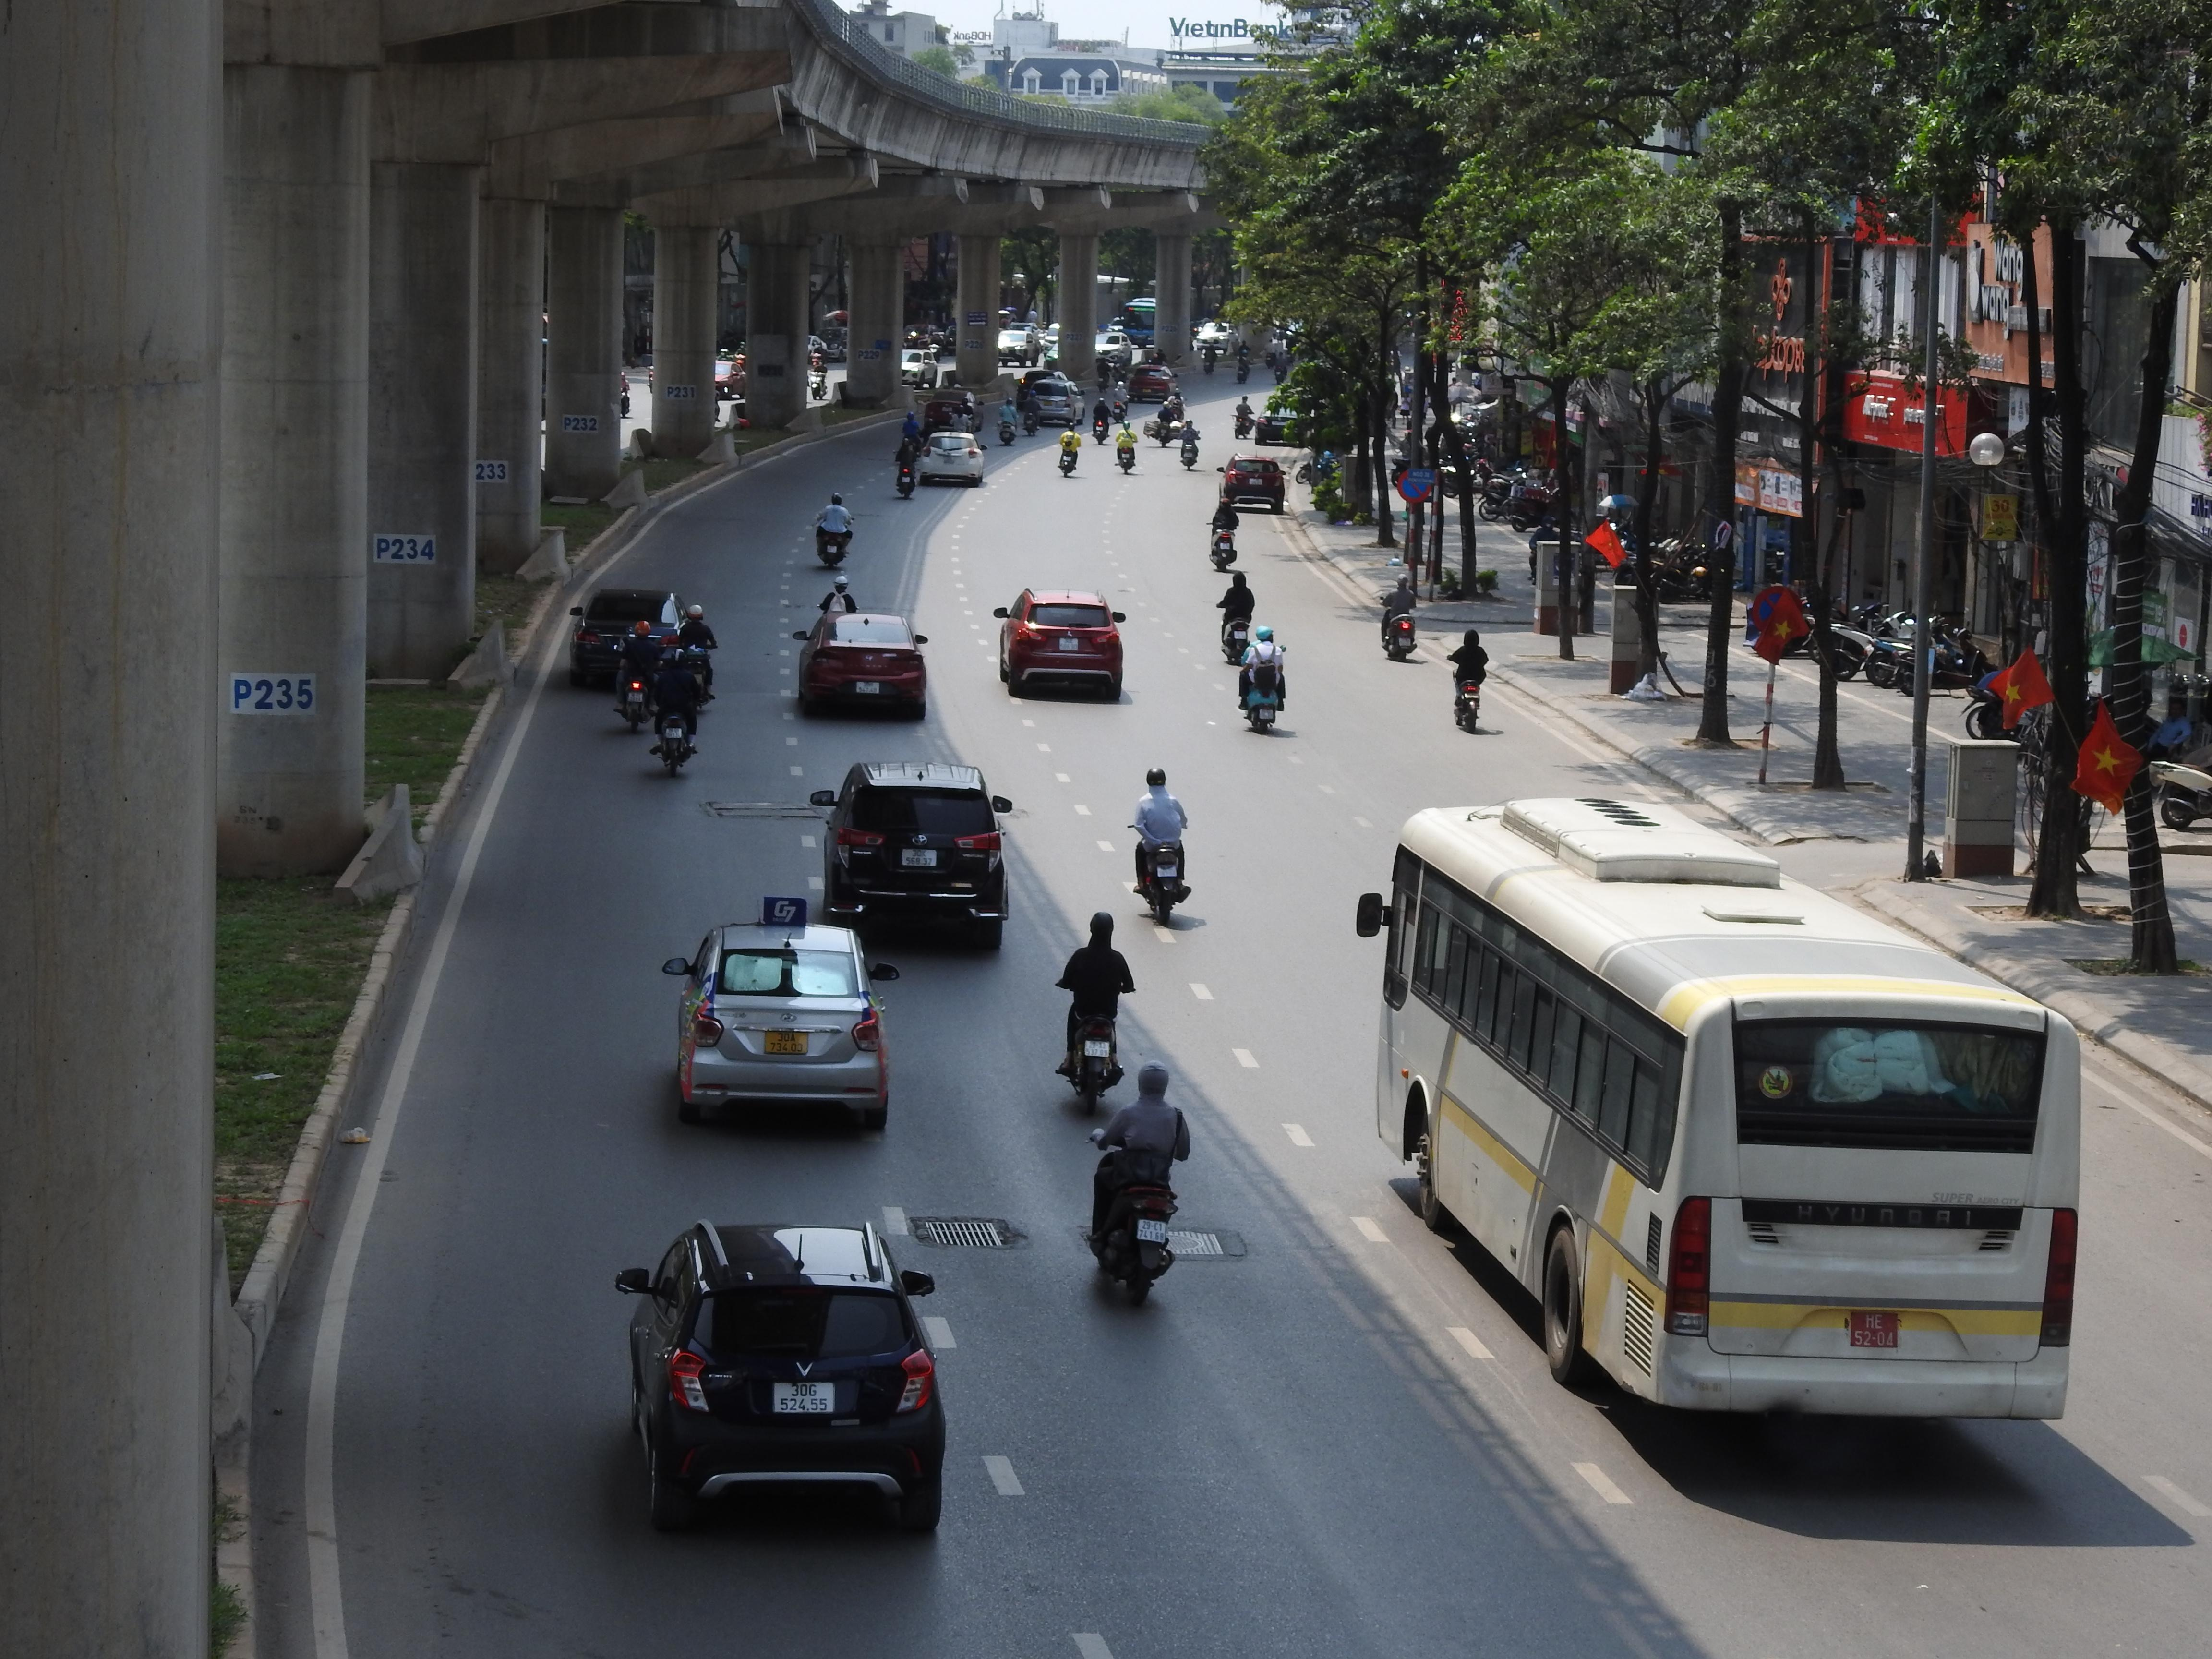BSV: (773, 1382, 834, 1415), (1850, 1310, 1898, 1349), (765, 1030, 808, 1054), (1136, 1218, 1167, 1244), (900, 849, 937, 866), (1085, 1040, 1109, 1058), (1059, 638, 1078, 652), (1157, 864, 1177, 877)
bus: (1357, 793, 2085, 1422)
car: (615, 1218, 948, 1535), (662, 918, 899, 1133), (810, 760, 1015, 950), (993, 587, 1129, 701), (791, 612, 930, 720), (566, 586, 690, 687), (1219, 453, 1289, 512), (916, 429, 986, 486)
motorbike: (1085, 1061, 1188, 1309), (1055, 910, 1134, 1114), (1129, 767, 1193, 929), (1892, 608, 1991, 694), (646, 645, 704, 777), (611, 615, 662, 734), (1237, 624, 1289, 734), (674, 601, 718, 704), (1449, 627, 1489, 734), (1217, 572, 1258, 666), (1379, 573, 1420, 662), (812, 493, 853, 570), (1207, 493, 1242, 573), (892, 430, 923, 500), (1113, 415, 1139, 474), (1057, 416, 1082, 476), (1176, 420, 1202, 471), (996, 397, 1019, 446), (1090, 394, 1111, 446), (899, 410, 920, 457), (1022, 390, 1042, 436)
